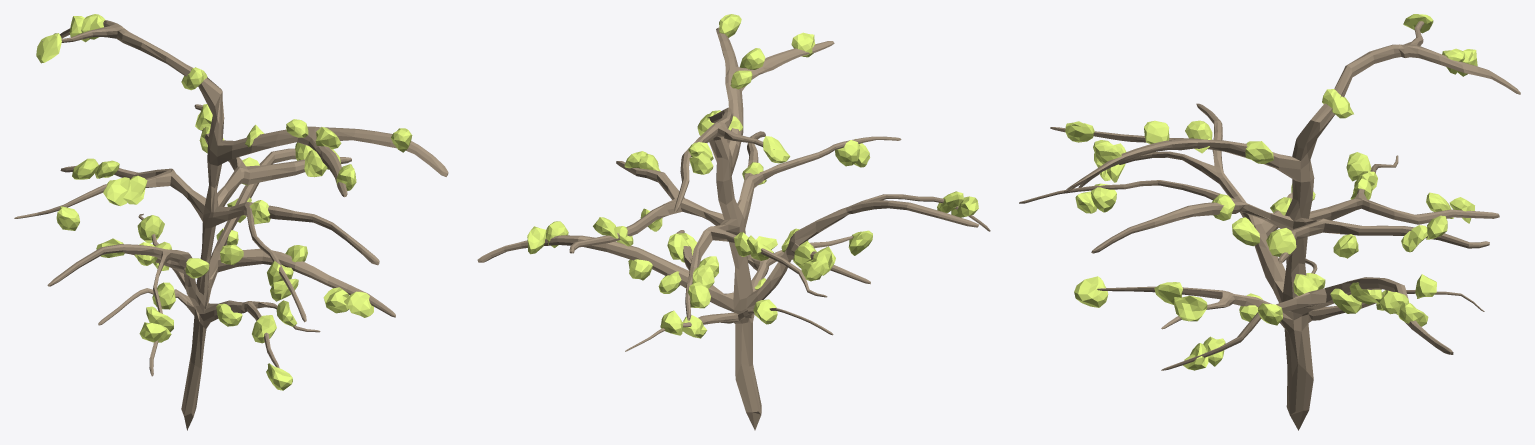
File: bizarretree3.obj
3 views of the same model, side by side, from view 1: azimuth 30°, elevation 25°; view 2: azimuth 150°, elevation 25°; view 3: azimuth 270°, elevation 25° (orthographic). The views are drawn at different scales.
Visible parts, largest first — view 1: Wide_Tree_A_0, Wide_Tree_A_Leaves_0; view 2: Wide_Tree_A_0, Wide_Tree_A_Leaves_0; view 3: Wide_Tree_A_0, Wide_Tree_A_Leaves_0.
Part boxes in pixels (x1=…): Wide_Tree_A_0: x1=14, y1=20, x2=448, y2=430; Wide_Tree_A_Leaves_0: x1=36, y1=14, x2=412, y2=390; Wide_Tree_A_0: x1=477, y1=27, x2=990, y2=430; Wide_Tree_A_Leaves_0: x1=527, y1=14, x2=978, y2=338; Wide_Tree_A_0: x1=1019, y1=21, x2=1520, y2=430; Wide_Tree_A_Leaves_0: x1=1065, y1=14, x2=1477, y2=370.
Size of the model in its own units: 11.36 by 9.93 by 11.84.
